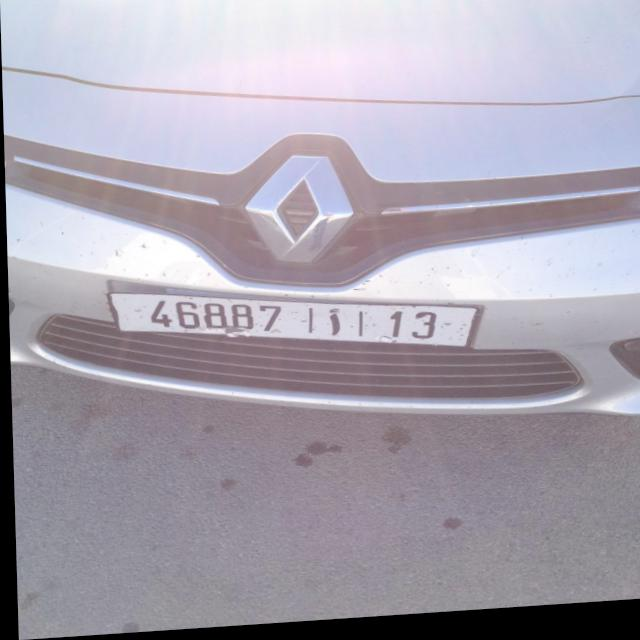License-Plate: (107, 294, 475, 353)
